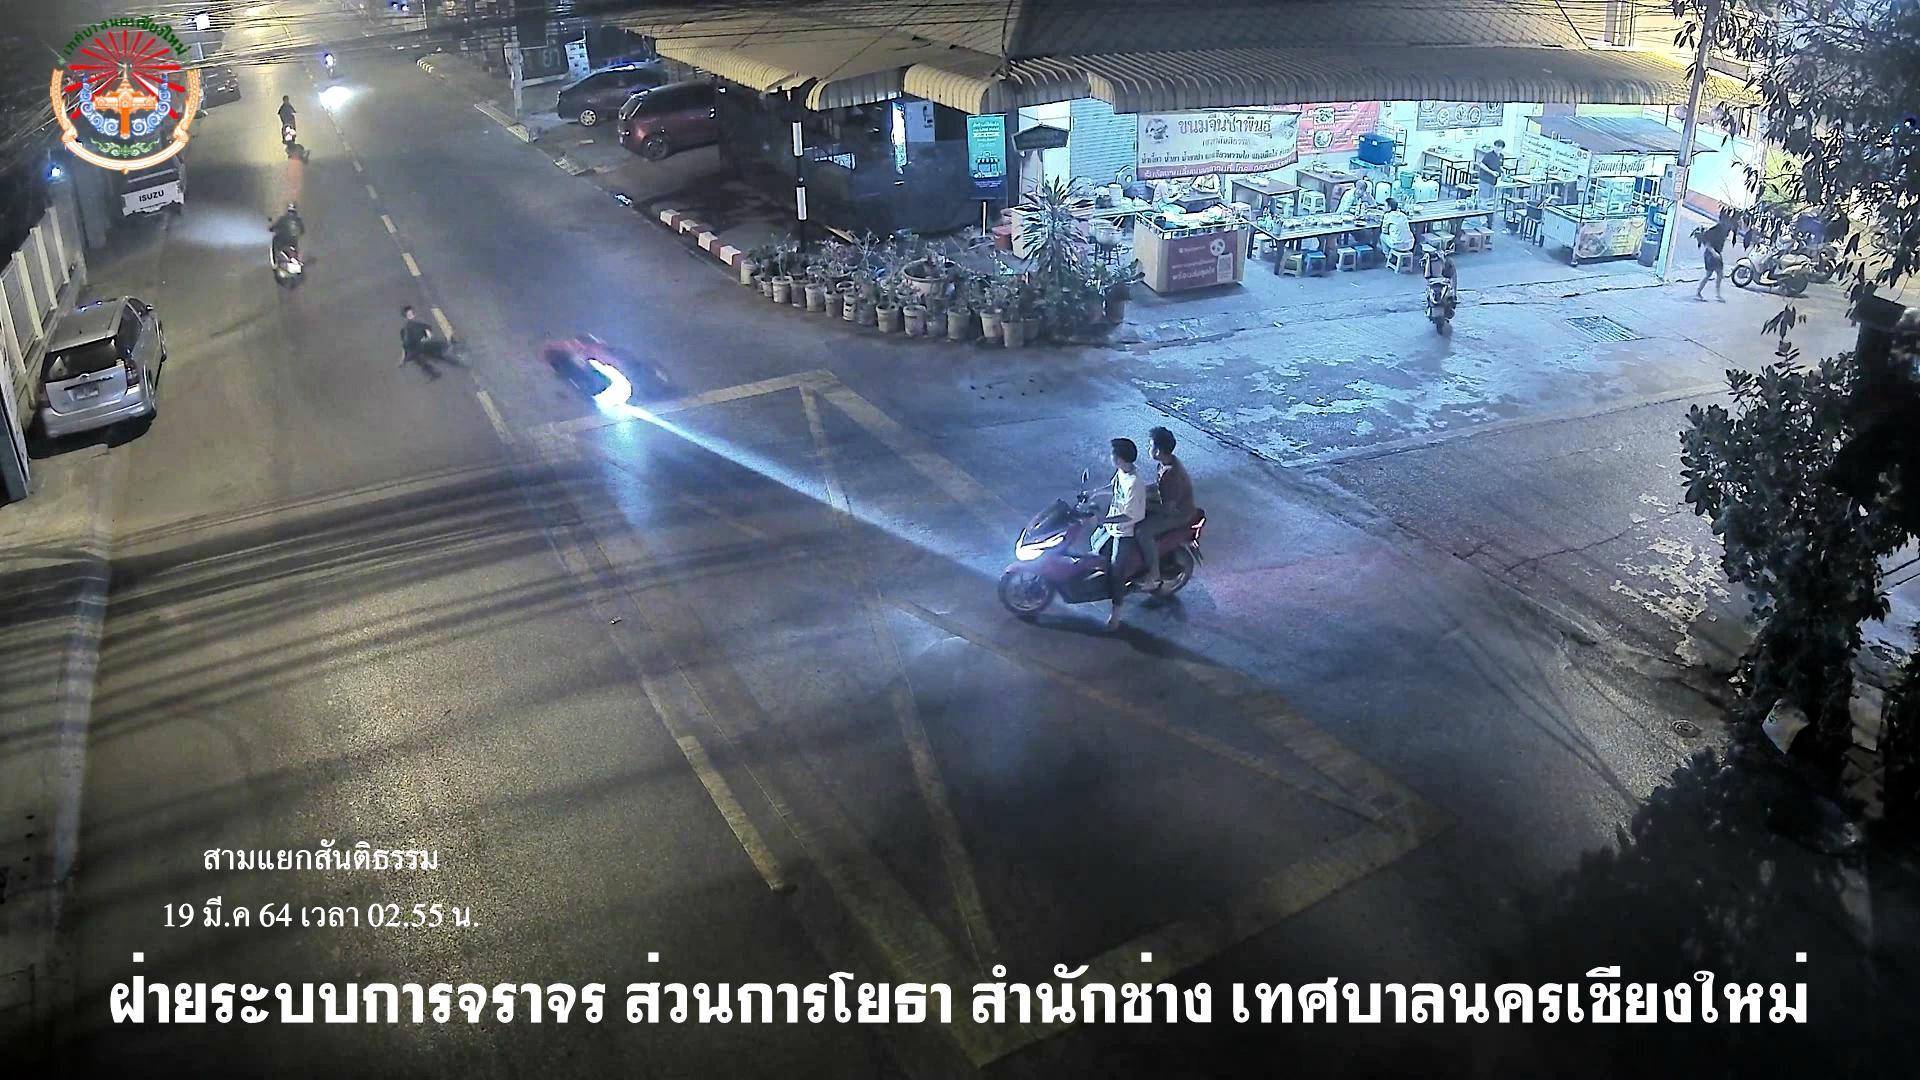accident: (390, 298, 475, 384)
